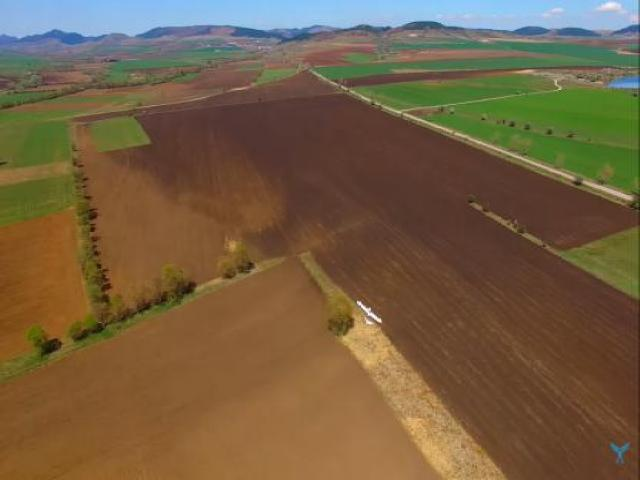uav: (352, 292, 385, 338)
